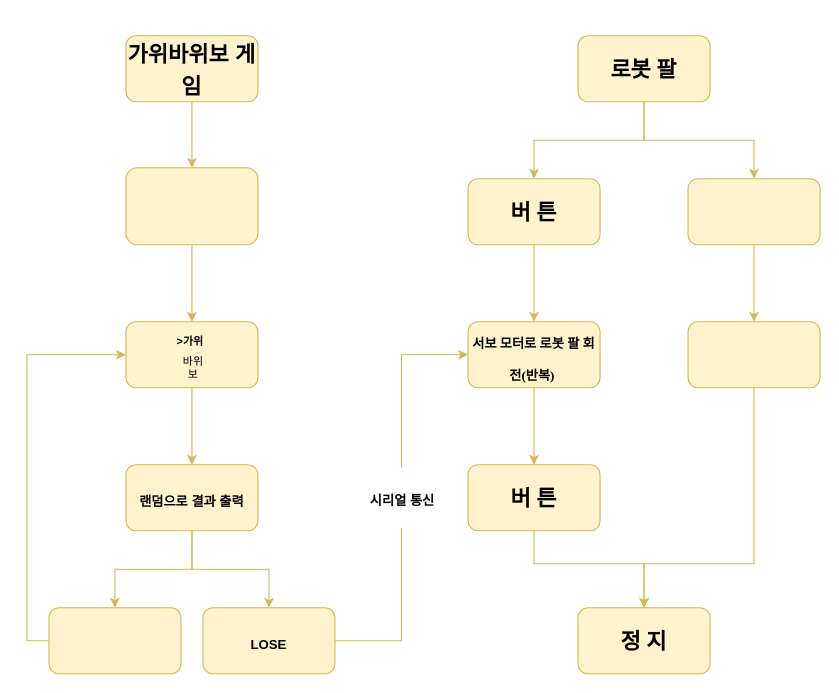
Some shapes in this 839 by 693 pixel diagram are drawn without their labels. The shapes that lost their labels are listed below. From the top down, each one's centre as x and y in pixels, then its label:
At (191,206): ">게임 시작 게임 정보 게임 종료".
At (753,211): "가 변 저 항".
At (753,354): "서보 모터 회전 로봇 팔 방향 조절".
At (114,640): "WIN , DRAW".
